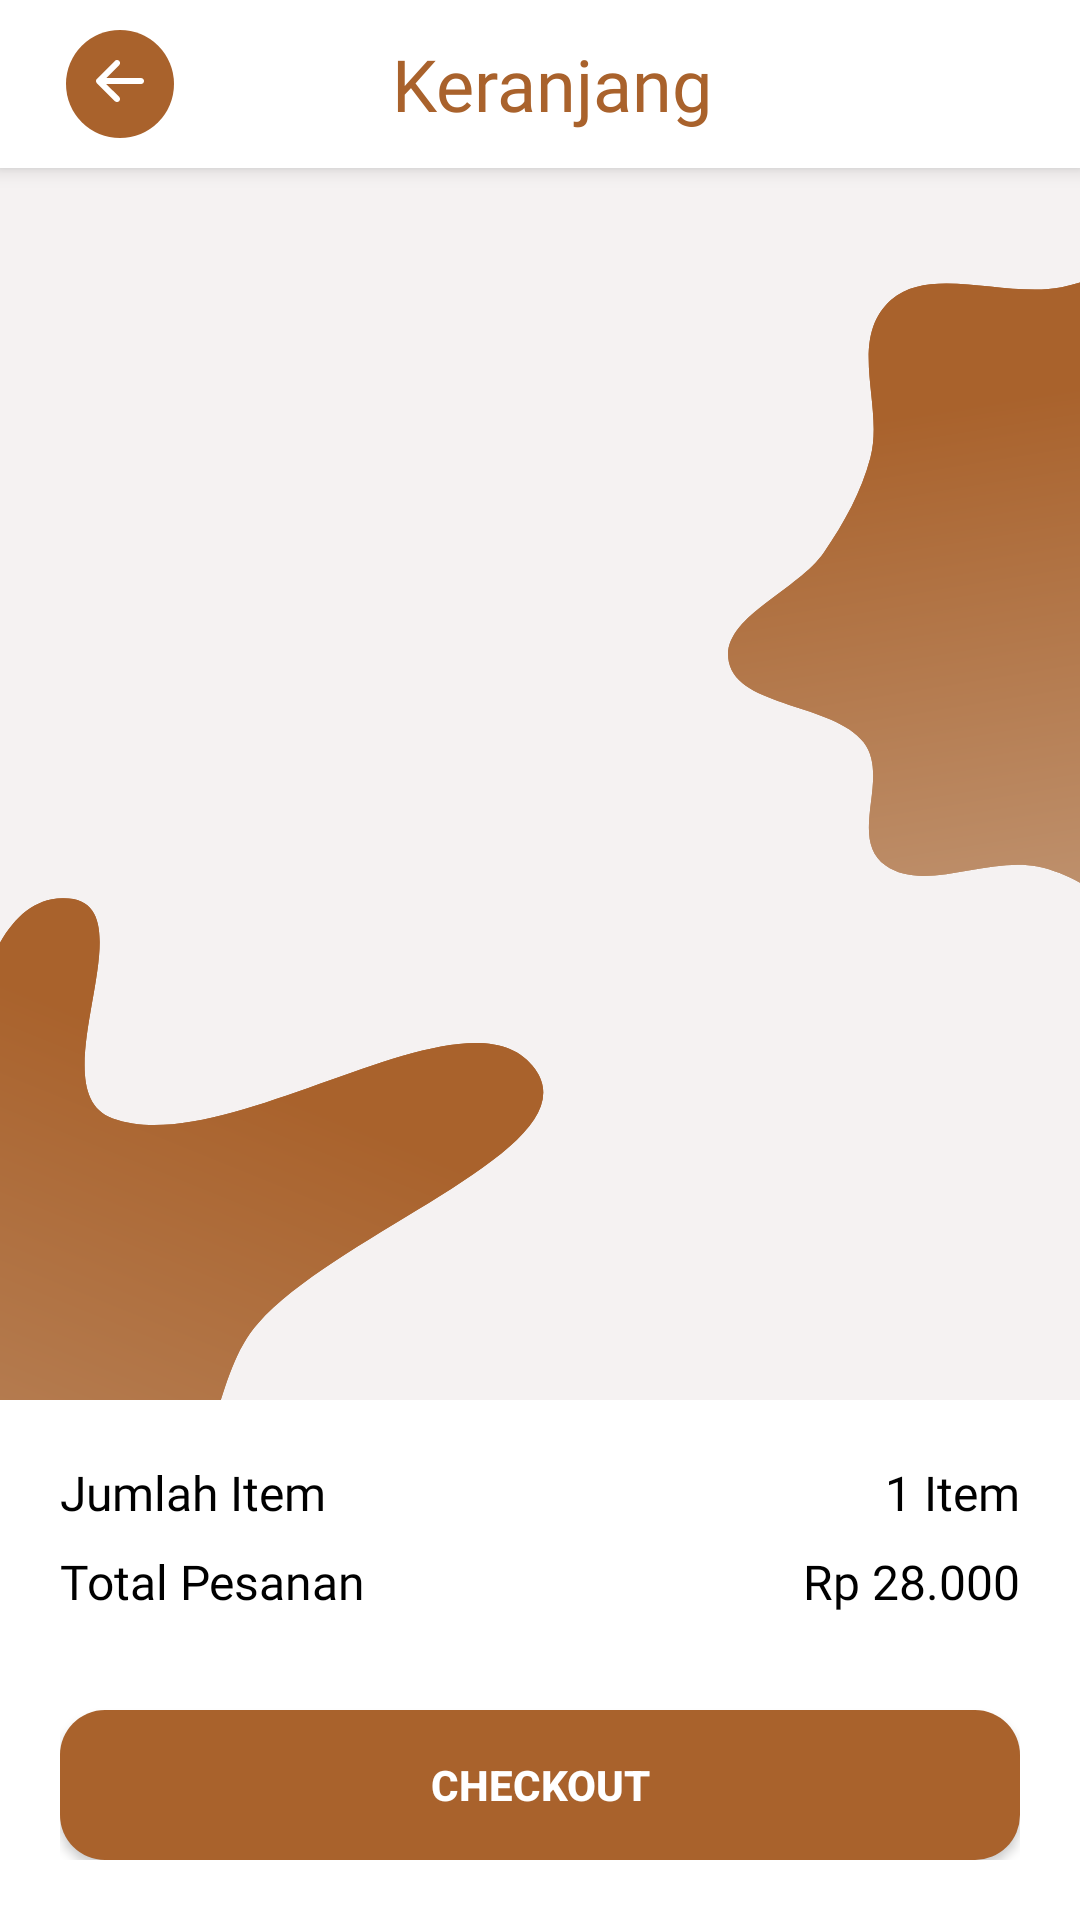

Where to tap for icons on this 1080px x 1920px app screen, as [x,y]:
Kembali: [120,84]
